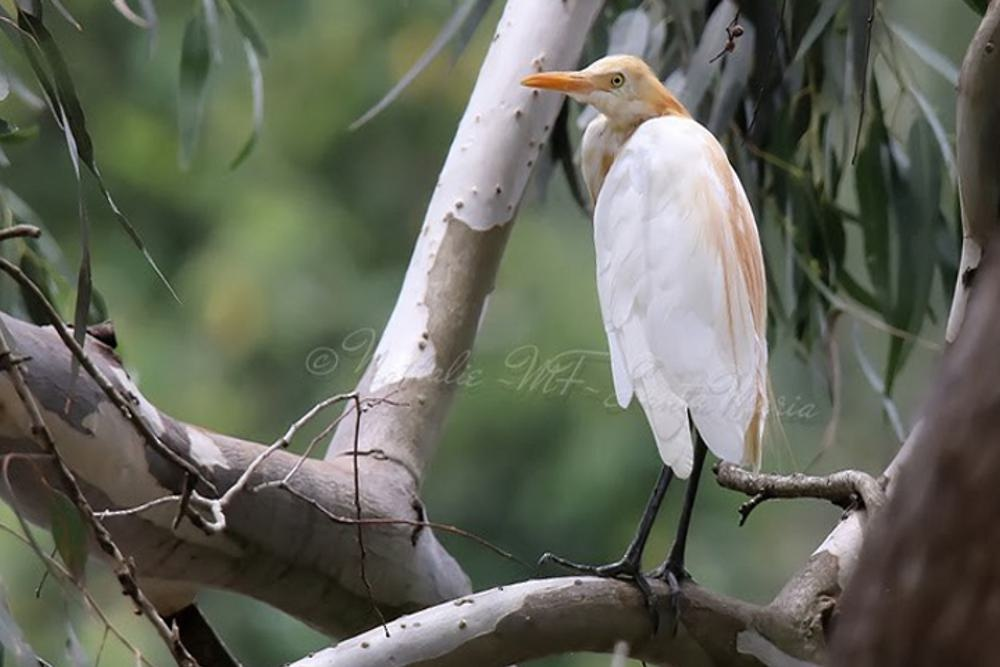egret: (523, 47, 831, 587)
